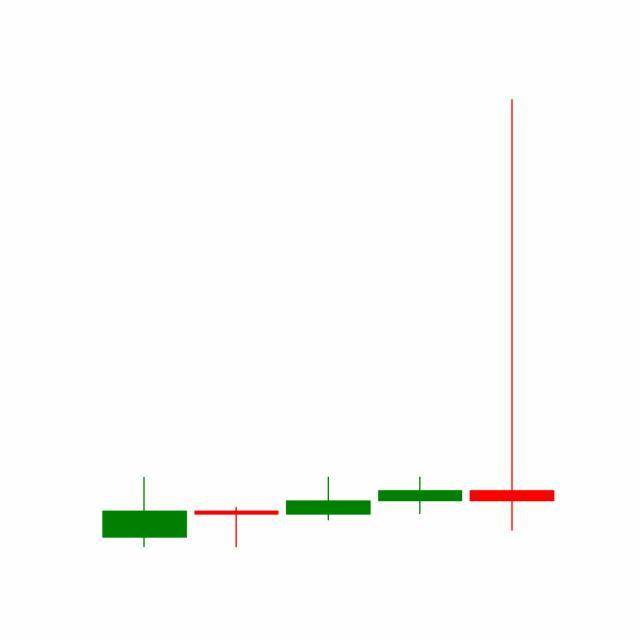Spinning Top: (374, 477, 468, 516)
